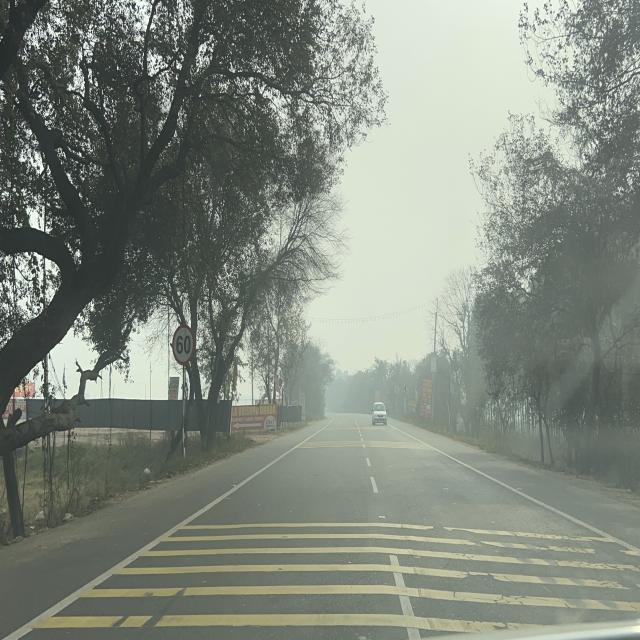SPEED_LIMIT_60: (172, 322, 195, 366)
TURN_LEFT: (403, 385, 408, 392)
